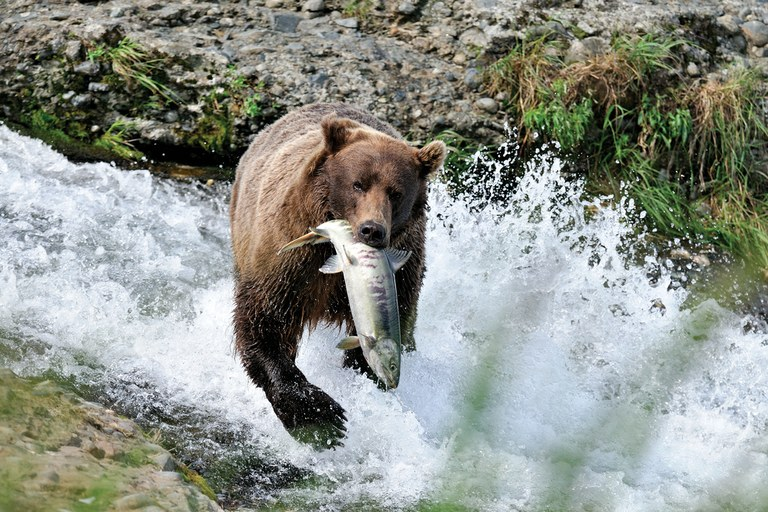bear: (315, 112, 450, 250)
